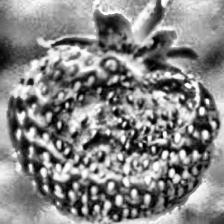Anthracnose Fruit Rot: (24, 65, 210, 188)
